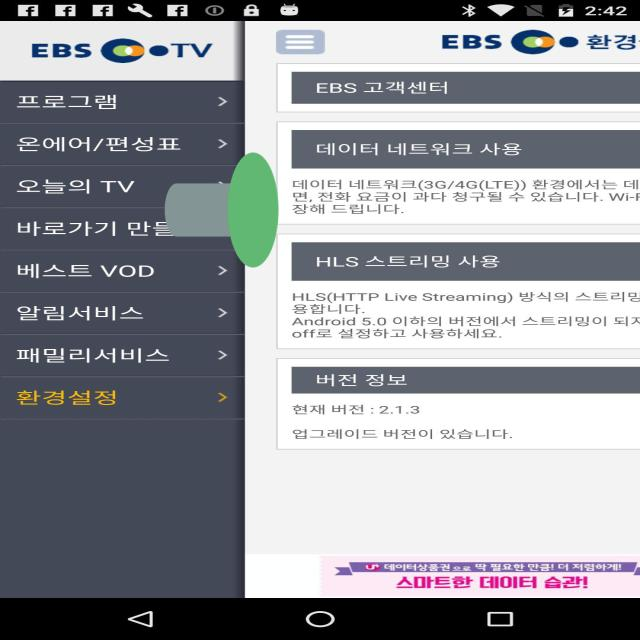social proof: (164, 82, 278, 338)
